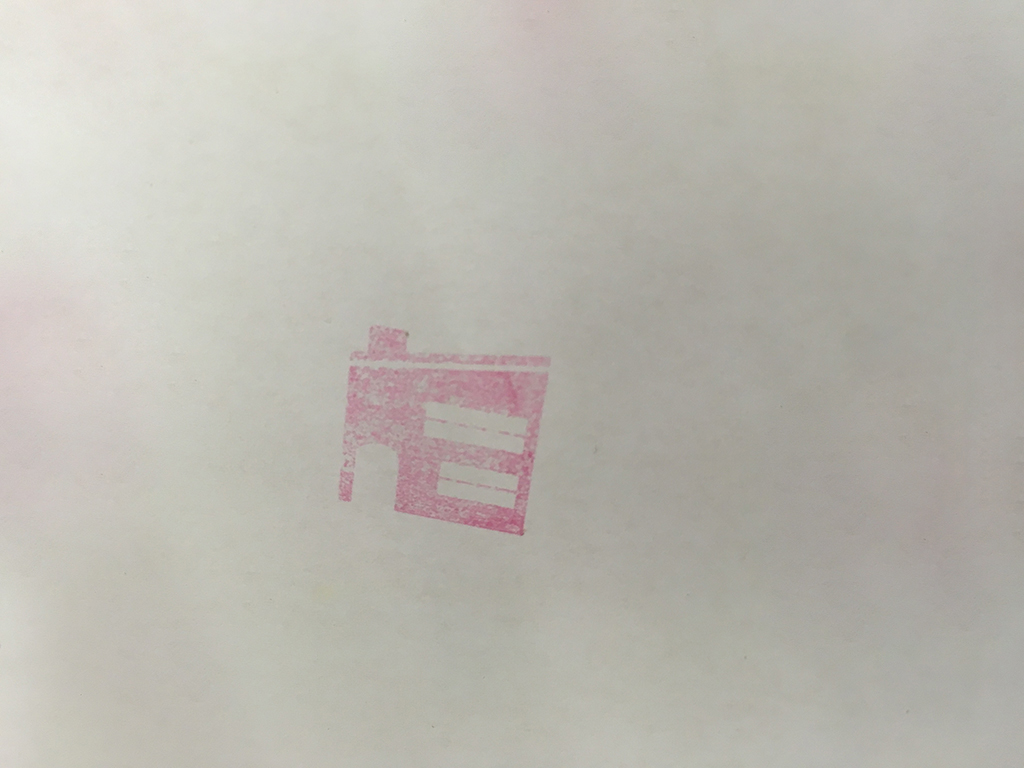house: (313, 313, 568, 547)
